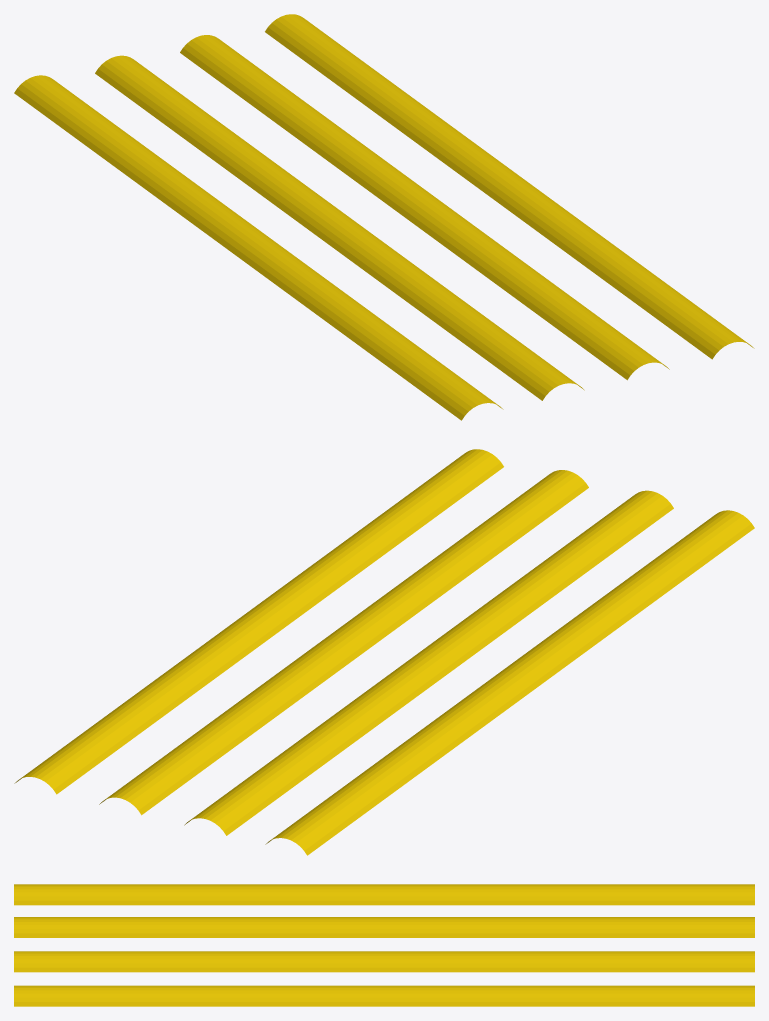
Rendered from bumpers.glb.
The picture shows the model from 3 angles, top to bottom: view 1: azimuth 30°, elevation 25°; view 2: azimuth 150°, elevation 25°; view 3: azimuth 270°, elevation 25°; orthographic projection. The views are drawn at different scales.
Visible parts, largest first — view 1: Cylinder.003; view 2: Cylinder.003; view 3: Cylinder.003.
Part boxes in pixels (left/top/right/bottom): Cylinder.003: left=14, top=14, right=754, bottom=420; Cylinder.003: left=14, top=449, right=754, bottom=855; Cylinder.003: left=14, top=884, right=754, bottom=1006.
Size of the model in its own units: 8.25 by 0.3205 by 21.81.
